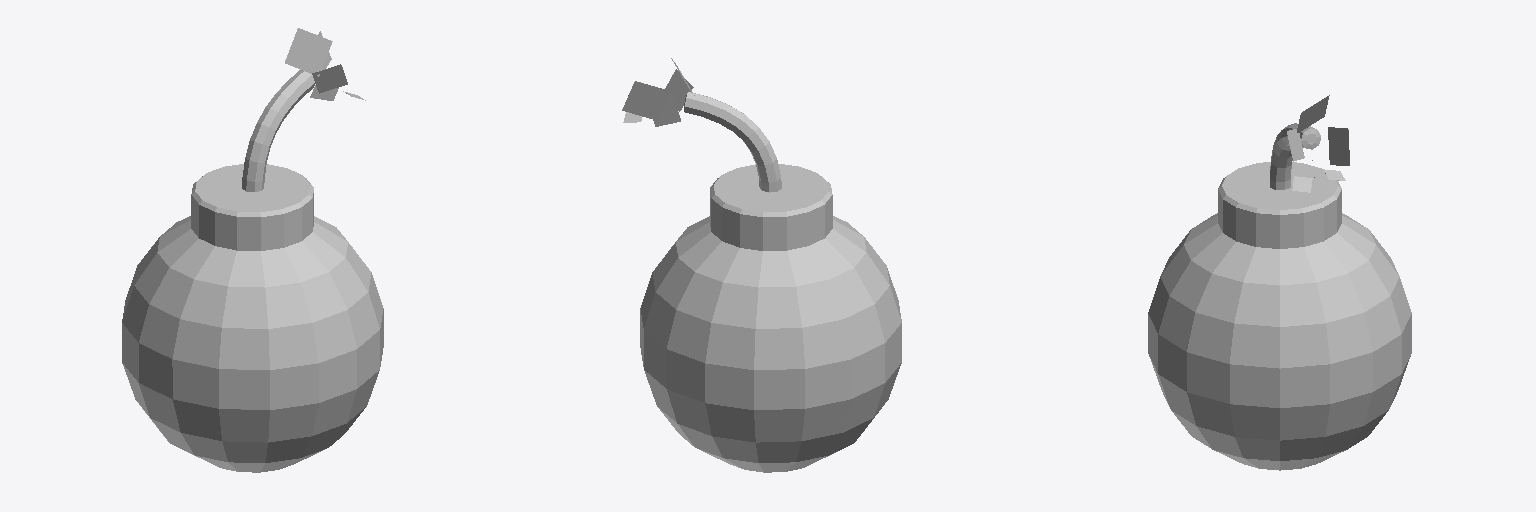
Rendered from bomb_000008.obj.
The picture shows the model from 3 angles: view 1: azimuth 30°, elevation 25°; view 2: azimuth 150°, elevation 25°; view 3: azimuth 270°, elevation 25°; orthographic projection.
Parts seen in each view (by area): view 1: Sphere, NurbsPath, Plane_5.001_Mesh.001; view 2: Sphere, NurbsPath, Plane_5.001_Mesh.001; view 3: Sphere, Plane_5.001_Mesh.001, NurbsPath.
Part boxes in pixels (bbox=[...]): Sphere: bbox=[122, 164, 383, 472]; NurbsPath: bbox=[242, 70, 315, 191]; Plane_5.001_Mesh.001: bbox=[285, 28, 365, 100]; Sphere: bbox=[640, 164, 901, 472]; NurbsPath: bbox=[684, 92, 781, 192]; Plane_5.001_Mesh.001: bbox=[622, 58, 694, 126]; Sphere: bbox=[1148, 162, 1411, 470]; Plane_5.001_Mesh.001: bbox=[1287, 95, 1349, 192]; NurbsPath: bbox=[1270, 123, 1320, 189].
Size of the model in its own units: 0.8643 by 1.36 by 0.8409.